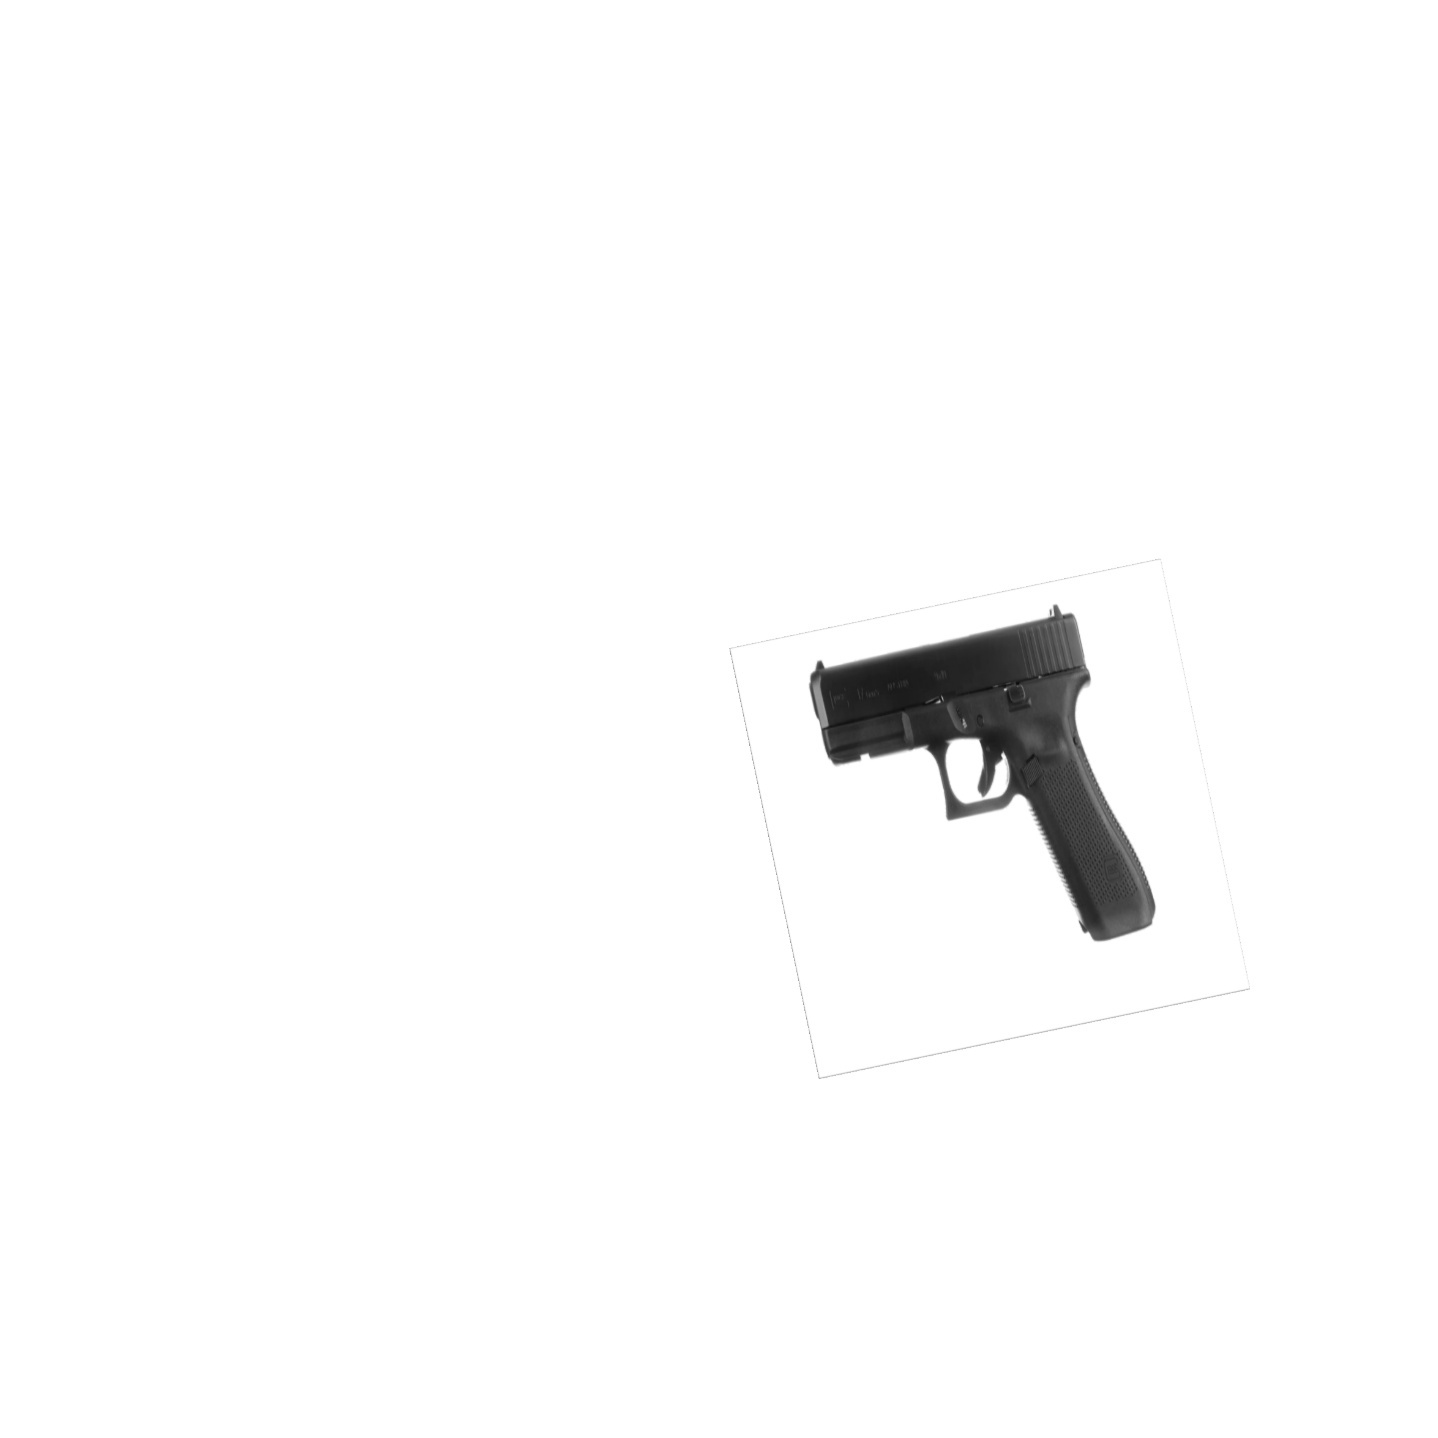gun: (801, 604, 1165, 955)
